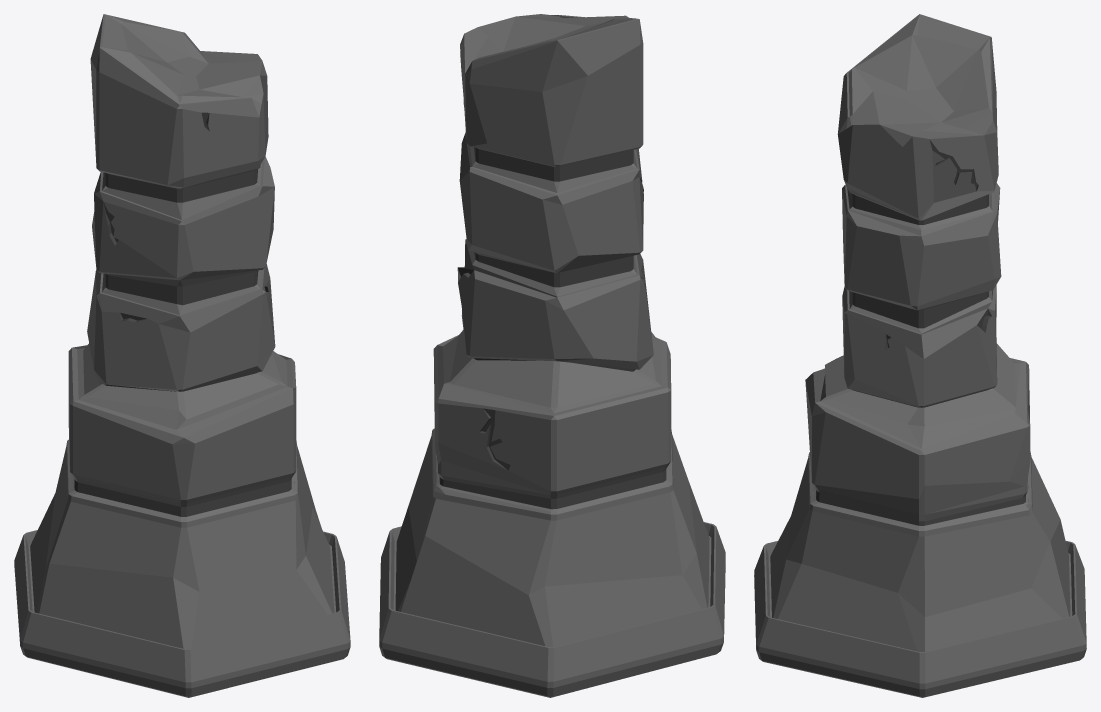
Rendered from Säulen_001.fbx.
The picture shows the model from 3 angles, left to right: view 1: azimuth 30°, elevation 25°; view 2: azimuth 150°, elevation 25°; view 3: azimuth 270°, elevation 25°; orthographic projection. The views are drawn at different scales.
Parts seen in each view (by area): view 1: Säule_001; view 2: Säule_001; view 3: Säule_001.
Part boxes in pixels (x1=…): Säule_001: x1=14, y1=14, x2=350, y2=697; Säule_001: x1=379, y1=14, x2=725, y2=697; Säule_001: x1=754, y1=14, x2=1086, y2=697.
Bounding box in the file's own units: 286 × 499 × 264.
